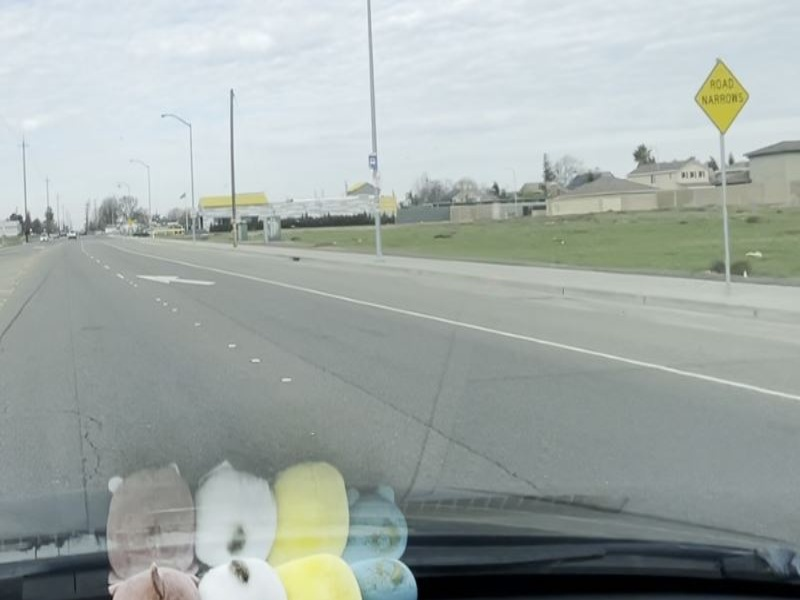merge sign: (691, 59, 752, 137)
